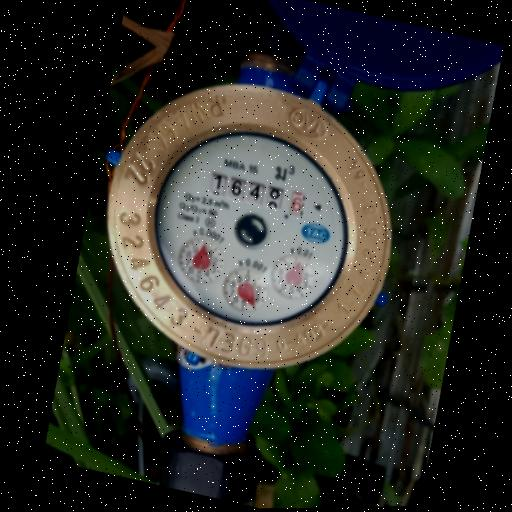1: (208, 173, 229, 197)
4: (246, 181, 266, 206)
6: (227, 177, 248, 201), (287, 190, 307, 215)
8: (266, 186, 286, 210)
border_water_meter_number: (205, 169, 309, 219)
